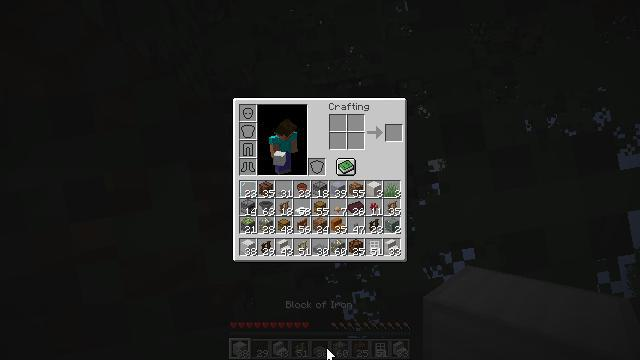cursor: (326, 347, 336, 360)
